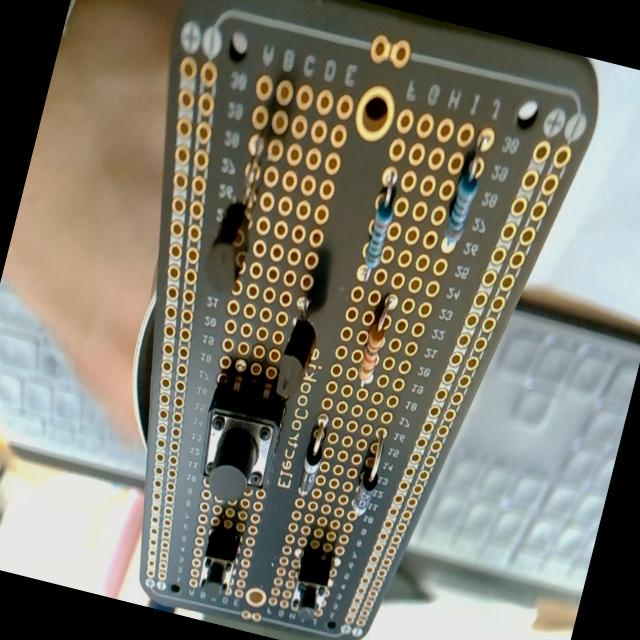diode: (348, 432, 389, 520), (294, 423, 328, 498)
resistor: (438, 126, 493, 252), (358, 166, 404, 279), (354, 290, 398, 388)
switch: (188, 368, 293, 508), (287, 546, 337, 623), (194, 526, 242, 602)
transistor: (200, 125, 280, 298), (272, 310, 322, 405)
